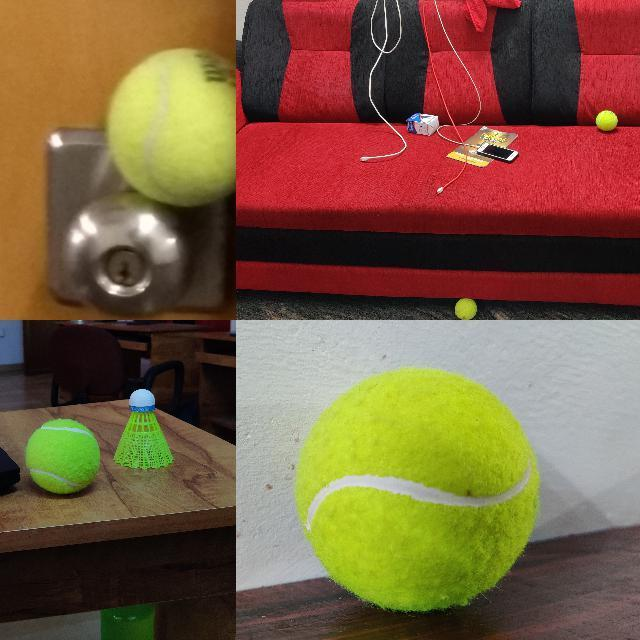tennis-ball: (293, 366, 541, 613), (105, 45, 235, 209), (25, 419, 99, 493), (454, 298, 477, 319), (595, 110, 617, 131)
